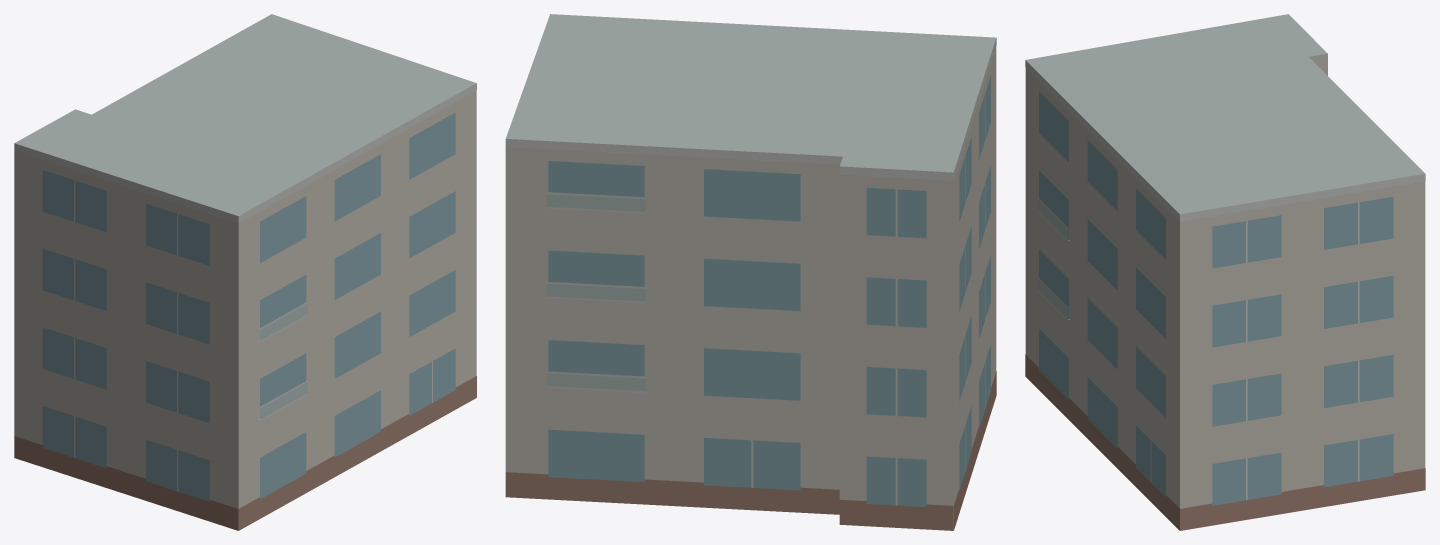
The model's file is survey-upis-32536478.glb.
3 views of the same model, side by side, from view 1: azimuth 30°, elevation 25°; view 2: azimuth 150°, elevation 25°; view 3: azimuth 270°, elevation 25° (orthographic). The views are drawn at different scales.
Parts seen in each view (by area): view 1: survey-upis-32536478.tmp; view 2: survey-upis-32536478.tmp; view 3: survey-upis-32536478.tmp.
Boxes of the visible parts, left/top/right/bottom form: survey-upis-32536478.tmp: left=14, top=14, right=476, bottom=530; survey-upis-32536478.tmp: left=505, top=14, right=996, bottom=530; survey-upis-32536478.tmp: left=1025, top=14, right=1425, bottom=530.
Size of the model in its own units: 14.41 by 10.6 by 12.15.
